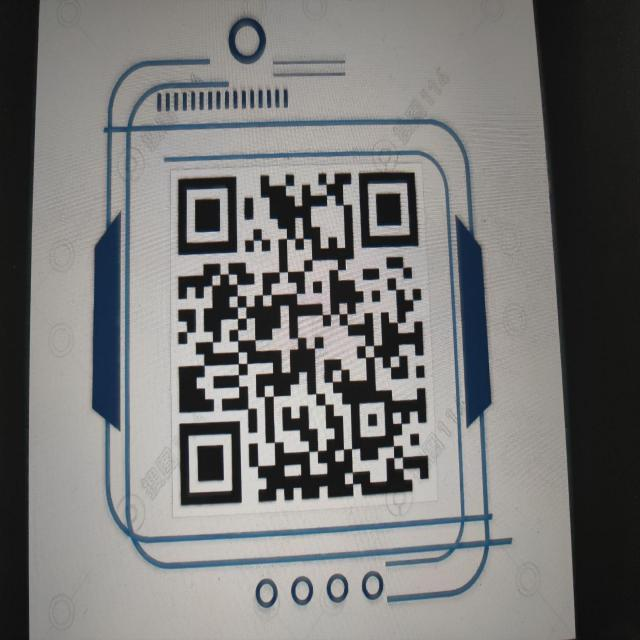qr_code: (178, 171, 429, 508)
